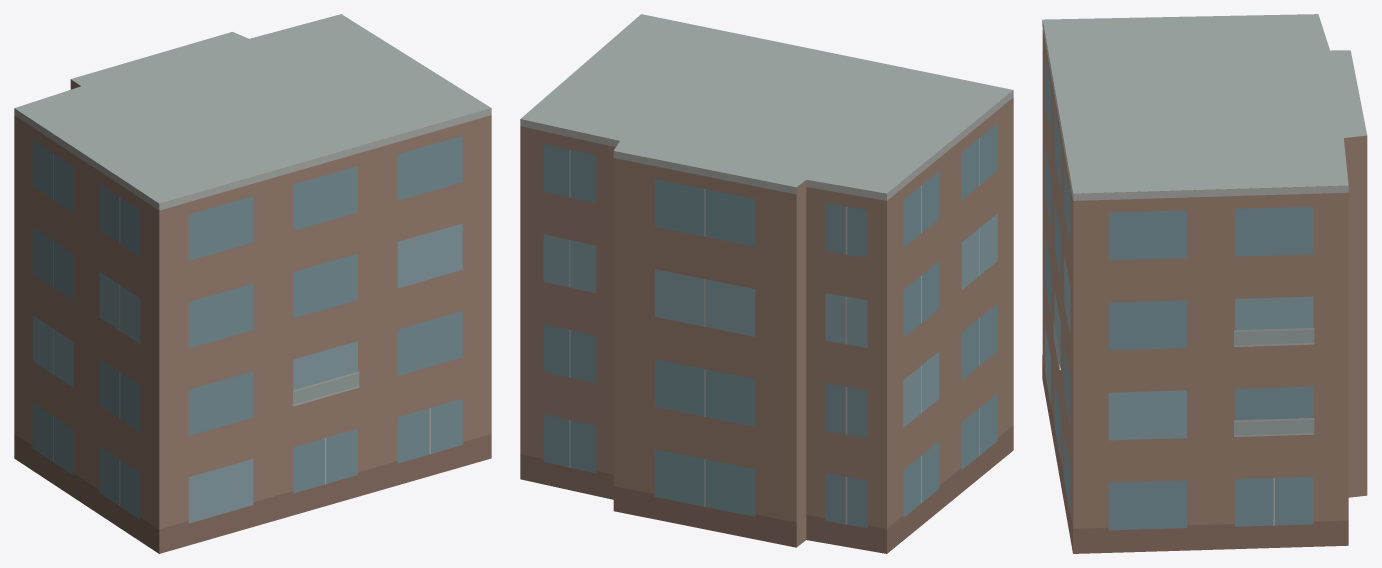
Rendered from survey-upis-32633216.glb.
3 renders of one model, left to right at view 1: azimuth 30°, elevation 25°; view 2: azimuth 150°, elevation 25°; view 3: azimuth 270°, elevation 25°, orthographic. The views are drawn at different scales.
Parts seen in each view (by area): view 1: survey-upis-32633216.tmp; view 2: survey-upis-32633216.tmp; view 3: survey-upis-32633216.tmp.
Part boxes in pixels (x1=…): survey-upis-32633216.tmp: x1=14, y1=14, x2=491, y2=553; survey-upis-32633216.tmp: x1=520, y1=14, x2=1013, y2=553; survey-upis-32633216.tmp: x1=1042, y1=14, x2=1367, y2=553.
Size of the model in its own units: 13.06 by 12.2 by 9.98.
